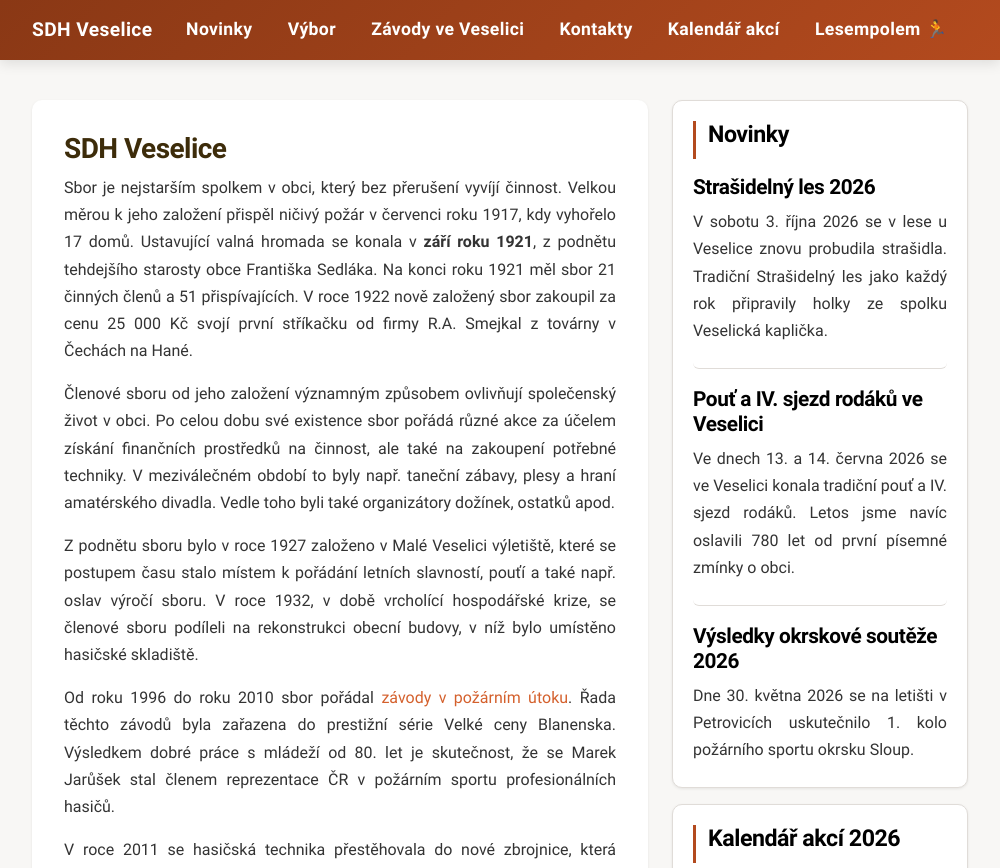
events › navigates from homepage EventsPanel to events page
Click the link "Kalendář akcí 2026".
click(804, 838)  # box [708,824,900,852]
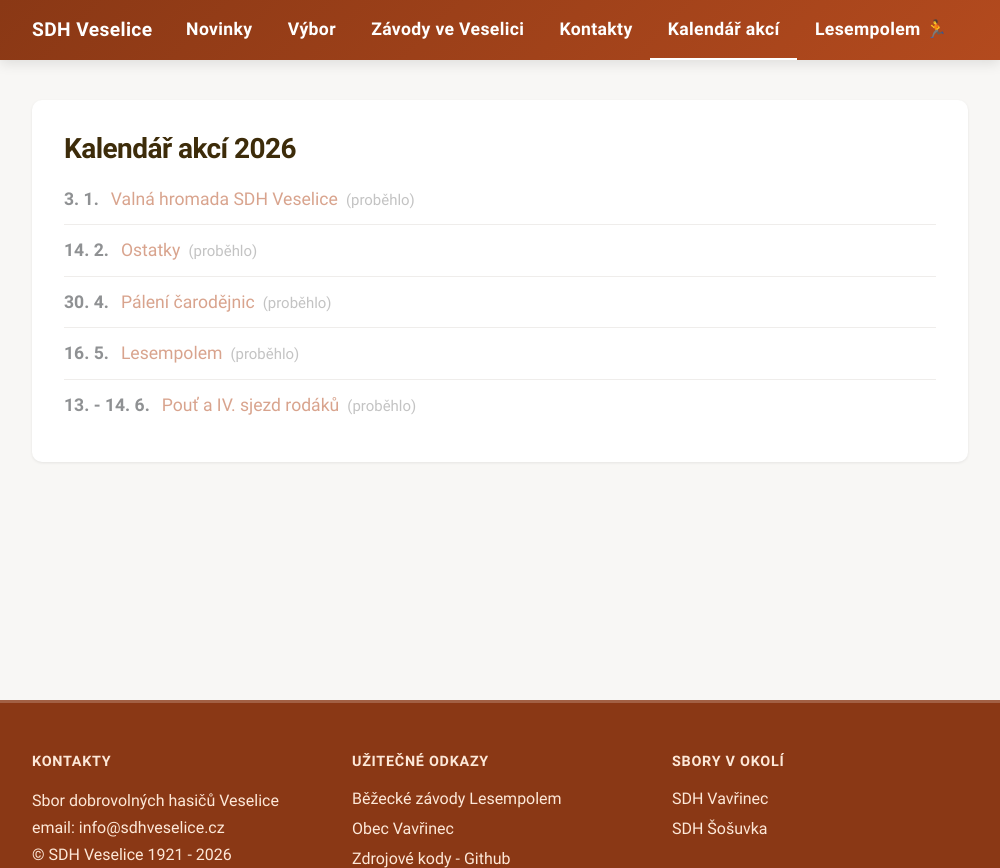
expect the heading "Kalendář akcí 2026" is shown: met, box [64,132,296,165]
